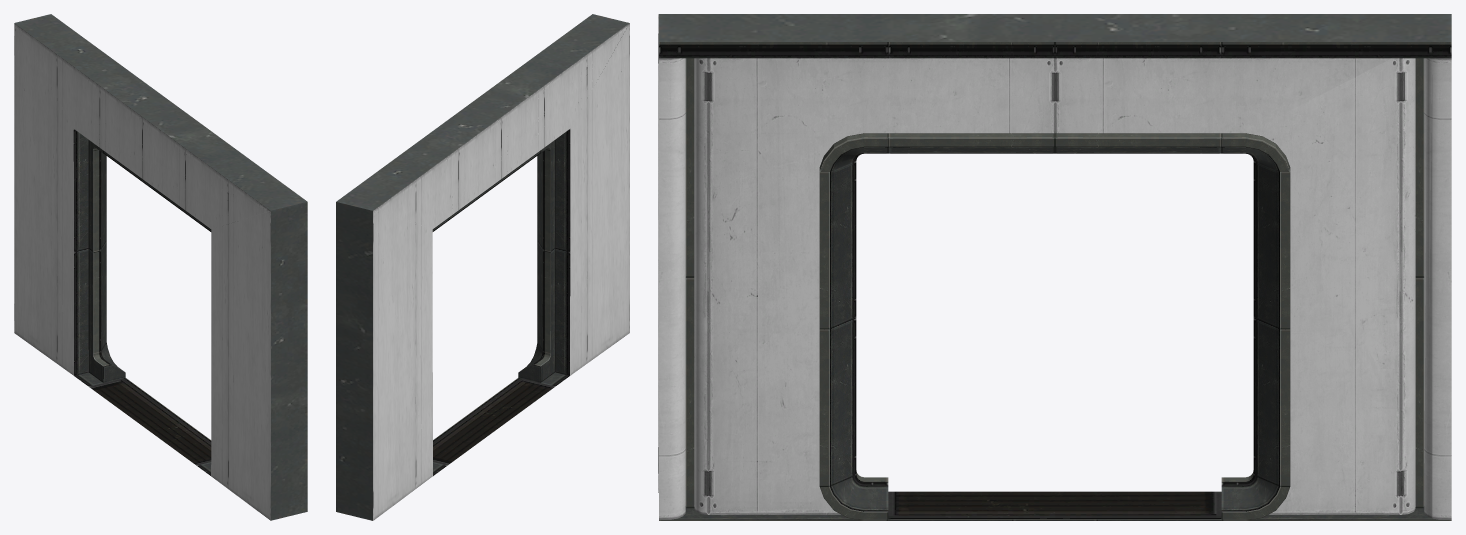
File: Neon_DoorFrameHalf_01.FBX
The picture shows the model from 3 angles, left to right: view 1: azimuth 30°, elevation 25°; view 2: azimuth 150°, elevation 25°; view 3: azimuth 270°, elevation 25°; orthographic projection. The views are drawn at different scales.
Parts seen in each view (by area): view 1: Neon_DoorFrameHalf_01; view 2: Neon_DoorFrameHalf_01; view 3: Neon_DoorFrameHalf_01.
Boxes of the visible parts, bbox=[...] form: Neon_DoorFrameHalf_01: bbox=[14, 14, 307, 520]; Neon_DoorFrameHalf_01: bbox=[336, 14, 629, 520]; Neon_DoorFrameHalf_01: bbox=[658, 14, 1451, 520].
Bounding box in the file's own units: 0.5 × 4 × 6.01.
